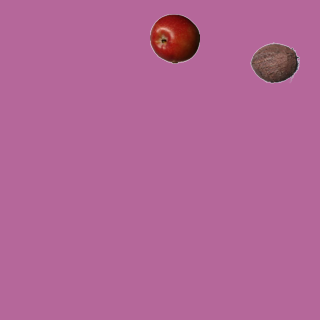Apple Braeburn: (149, 13, 199, 63)
Cocos: (249, 37, 299, 87)
